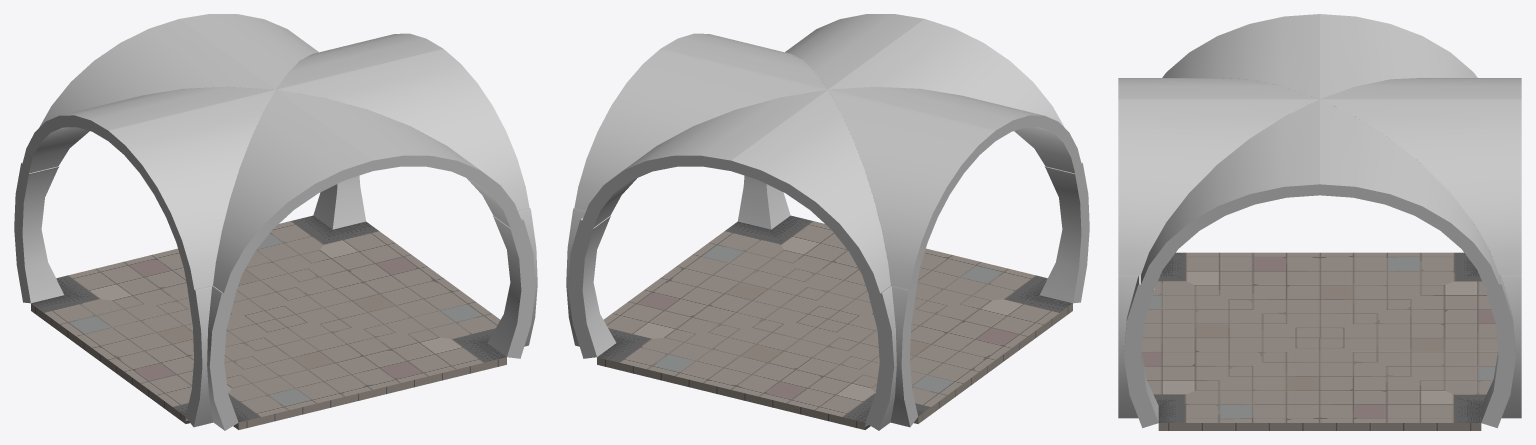
Rendered from road_3.fbx.
3 views of the same model, side by side, from view 1: azimuth 30°, elevation 25°; view 2: azimuth 150°, elevation 25°; view 3: azimuth 270°, elevation 25° (orthographic). The views are drawn at different scales.
Visible parts, largest first — view 1: Grid.007, Grid.006, Cylinder.019, Cylinder.013, Cylinder.017, Grid.008, Grid.005, Cylinder.027, Cylinder.015, Cylinder.021, Cylinder.009, Cylinder.026 (+7 smaller); view 2: Grid.005, Grid.006, Cylinder.021, Cylinder.011, Cylinder.027, Grid.008, Grid.007, Cylinder.017, Cylinder.009, Cylinder.019, Cylinder.015, Cylinder.020 (+7 smaller); view 3: Grid.006, Grid.008, Cylinder.009, Cylinder.015, Grid.005, Grid.007, Cylinder.013, Cylinder.011, Cylinder.021, Cylinder.019, Cylinder.017, Cylinder.027 (+4 smaller).
Part boxes in pixels (bbox=[...]): Grid.007: bbox=[228, 319, 506, 429]; Grid.006: bbox=[276, 221, 500, 342]; Cylinder.019: bbox=[108, 90, 275, 292]; Cylinder.013: bbox=[276, 49, 529, 210]; Cylinder.017: bbox=[213, 90, 372, 297]; Grid.008: bbox=[31, 295, 275, 423]; Grid.005: bbox=[56, 215, 332, 318]; Cylinder.027: bbox=[39, 19, 275, 127]; Cylinder.015: bbox=[277, 90, 523, 229]; Cylinder.021: bbox=[21, 86, 275, 174]; Cylinder.009: bbox=[180, 14, 318, 89]; Cylinder.026: bbox=[14, 162, 63, 303]; Grid.005: bbox=[597, 319, 875, 429]; Grid.006: bbox=[603, 221, 827, 342]; Cylinder.021: bbox=[828, 90, 995, 294]; Cylinder.011: bbox=[574, 49, 826, 210]; Cylinder.027: bbox=[731, 90, 890, 297]; Grid.008: bbox=[828, 295, 1072, 423]; Grid.007: bbox=[771, 215, 1047, 318]; Cylinder.017: bbox=[828, 19, 1064, 127]; Cylinder.009: bbox=[580, 89, 827, 228]; Cylinder.019: bbox=[828, 87, 1082, 174]; Cylinder.015: bbox=[785, 14, 923, 89]; Cylinder.020: bbox=[1040, 162, 1089, 303]; Grid.006: bbox=[1158, 338, 1481, 430]; Grid.008: bbox=[1162, 252, 1477, 337]; Cylinder.009: bbox=[1321, 99, 1521, 275]; Cylinder.015: bbox=[1118, 99, 1318, 275]; Grid.005: bbox=[1320, 271, 1497, 405]; Grid.007: bbox=[1142, 271, 1319, 405]; Cylinder.013: bbox=[1139, 99, 1319, 291]; Cylinder.011: bbox=[1320, 99, 1500, 289]; Cylinder.021: bbox=[1320, 14, 1477, 98]; Cylinder.019: bbox=[1162, 14, 1319, 98]; Cylinder.017: bbox=[1118, 78, 1319, 99]; Cylinder.027: bbox=[1320, 78, 1521, 99].
Bounding box in the file's own units: 464 × 313 × 464.
